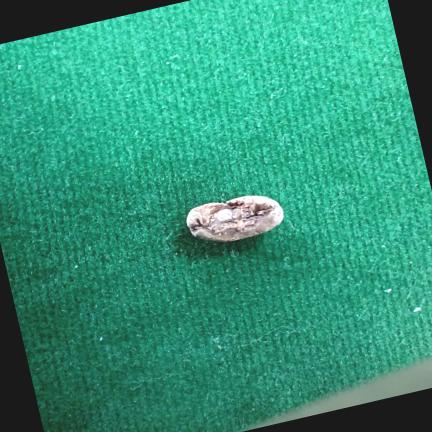shell: (186, 196, 284, 241)
